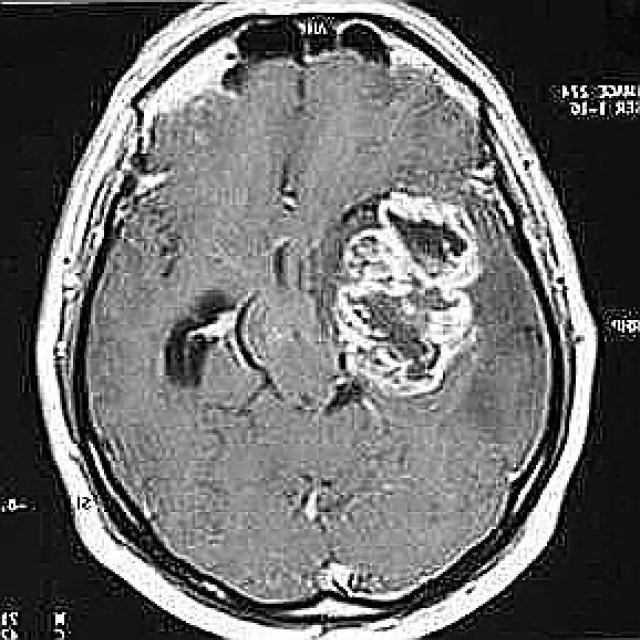Tumor-Cell: (333, 194, 472, 404)
